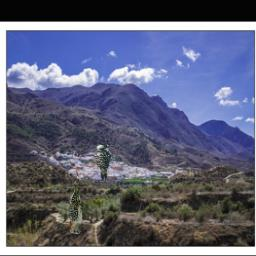Woodpecker: (93, 144, 124, 182), (70, 181, 88, 235)
